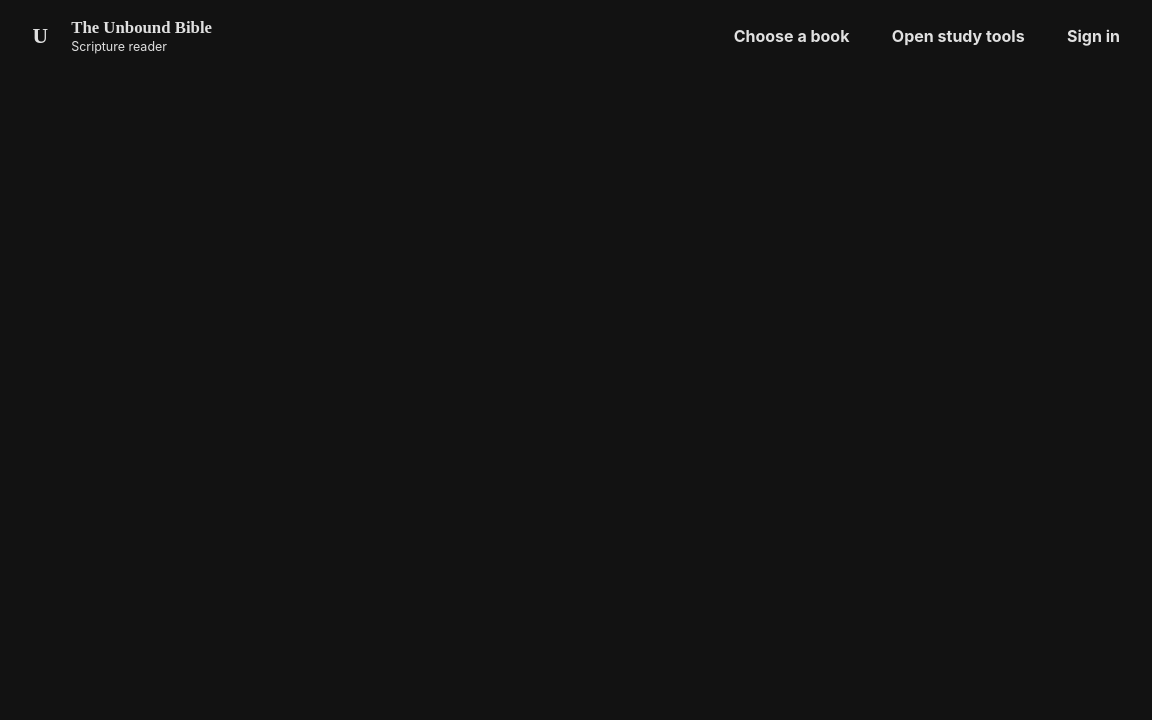
it: ReaderHeader › reopens in sign-in mode after closing registration mode
Click the button "Sign in": coordinates (1094, 36) [1051,12,1136,60]
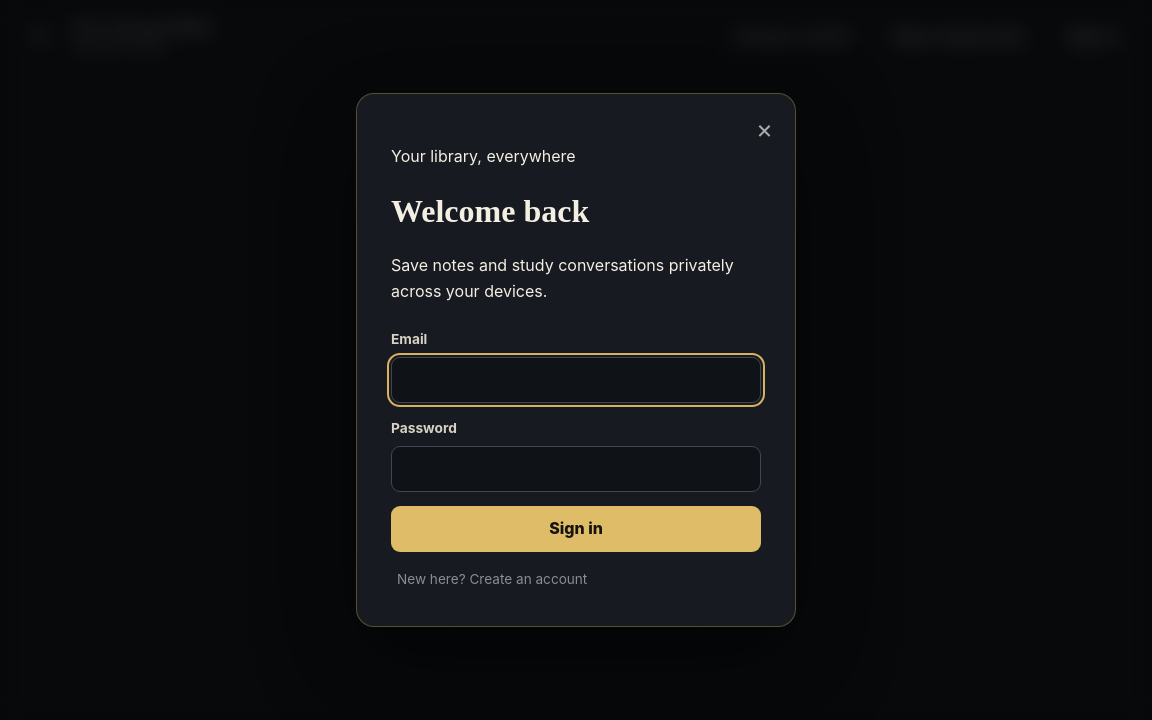
Click the button "New here? Create an account": coordinates (492, 580) [391,568,593,592]
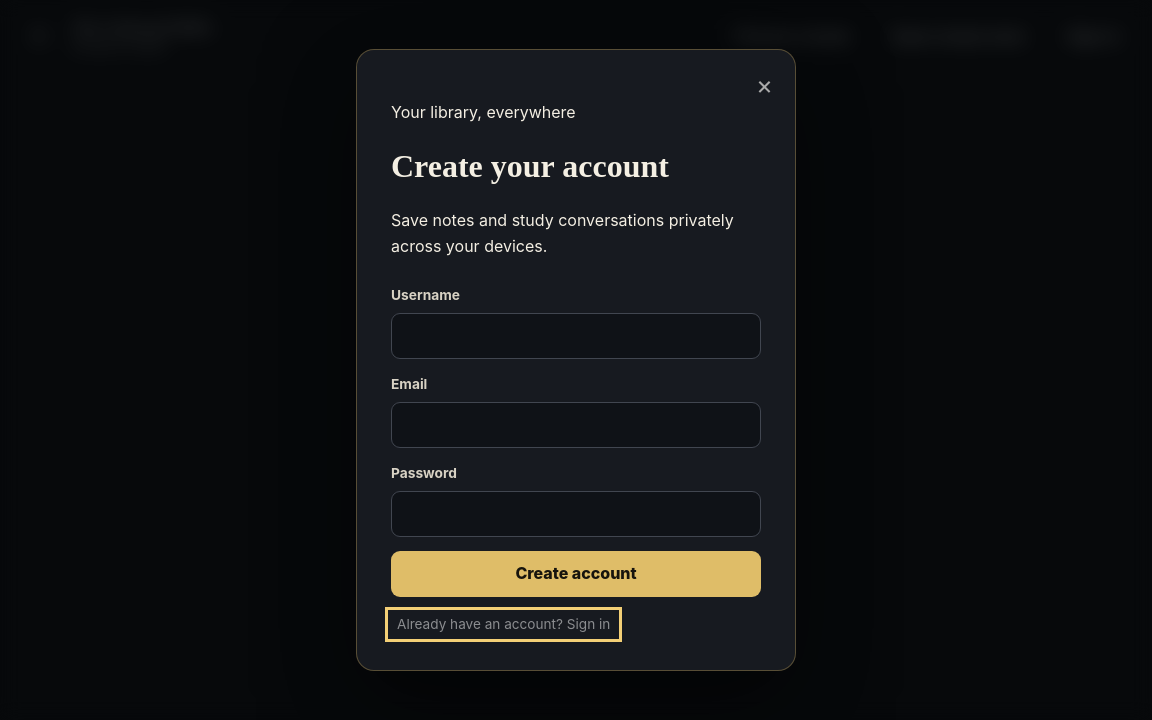
Now the dialog "Create your account" is shown, box [356,49,796,671]
Click the button named "Close": coordinates (765, 85) [750,64,779,106]
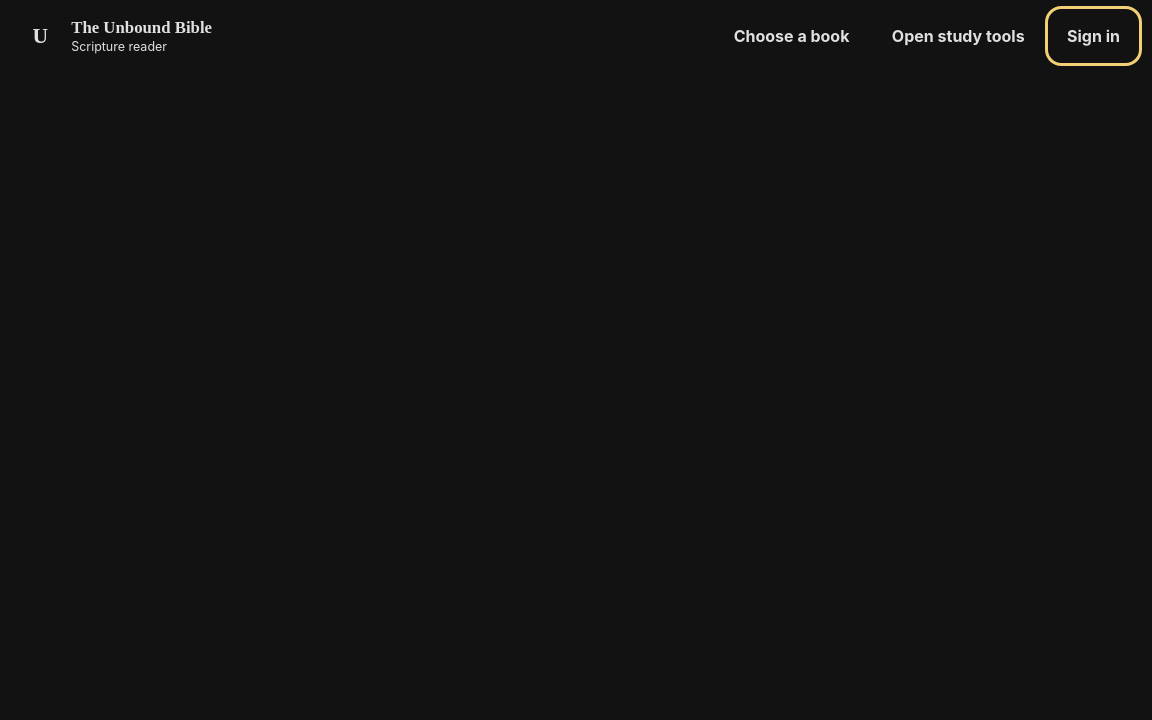
Click the button "Sign in": coordinates (1094, 36) [1051,12,1136,60]
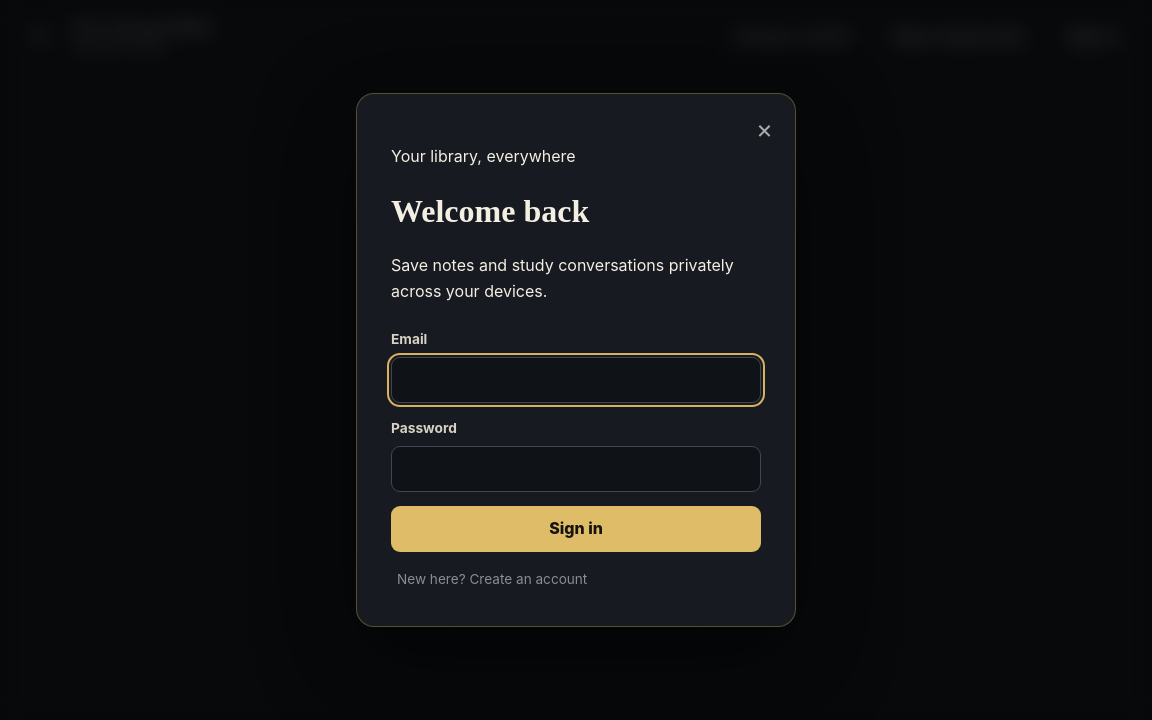
Expected: the heading "Create your account" is not shown
Now the dialog "Welcome back" is shown, box [356,93,796,627]
